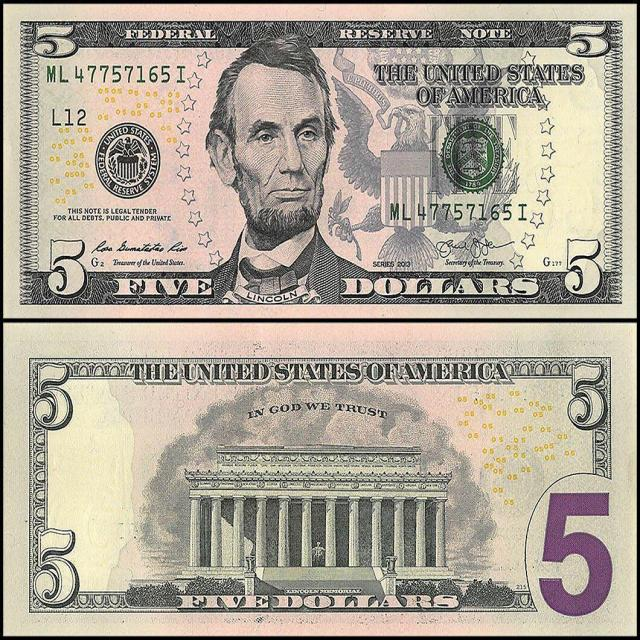5-Back: (1, 324, 638, 636)
5-Front: (6, 6, 636, 320)
